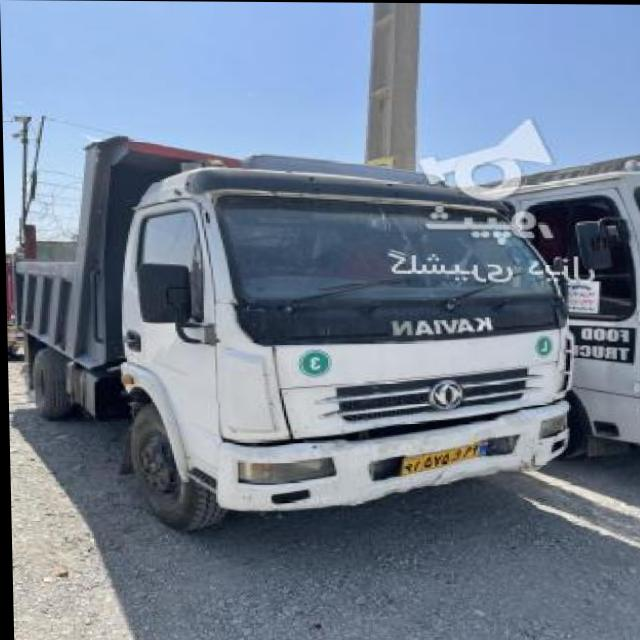licence: (402, 438, 490, 474)
